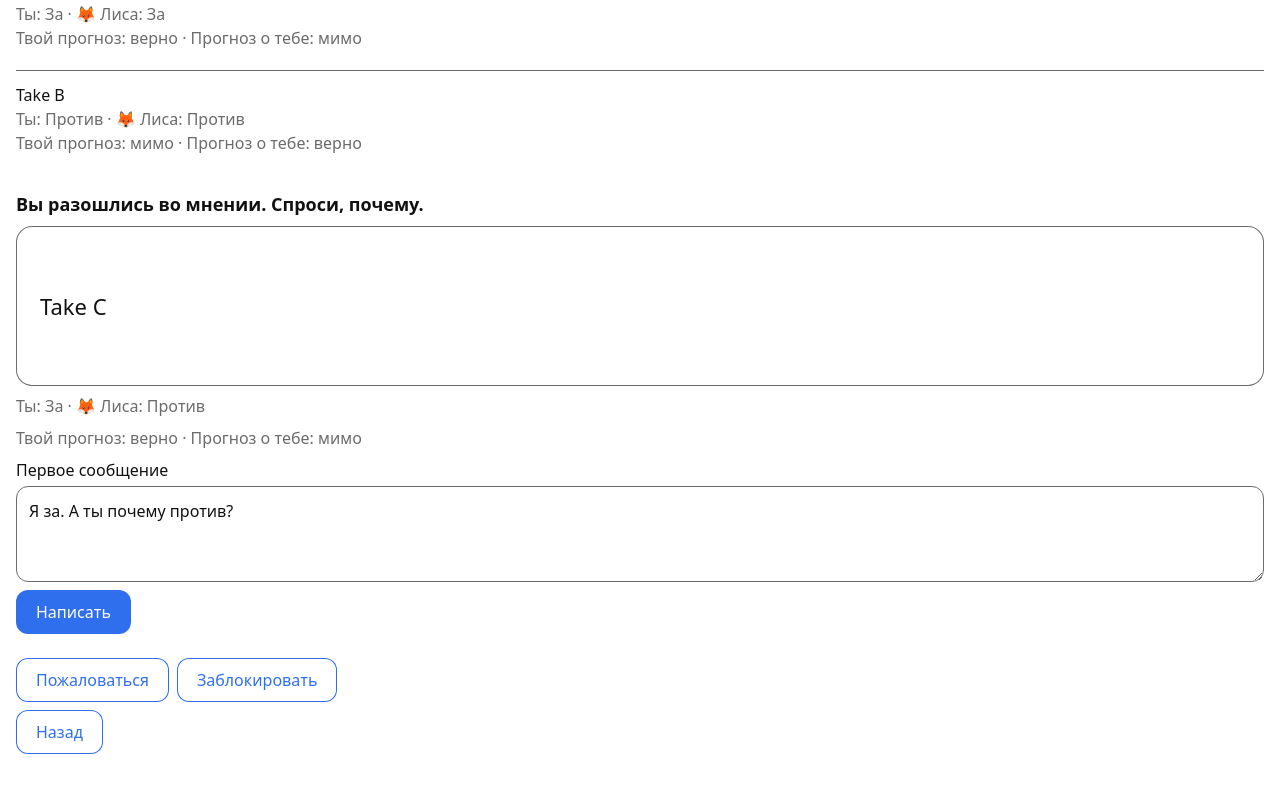
Test: <Match> results › looks at the match again when the chat turns out to be over
This screenshot has width=1280, height=786.
(page scrolled)
Check: the text box labelled "Первое сообщение" is shown, box left=16, top=486, right=1264, bottom=582
Click the button "Написать": (73, 612) left=16, top=590, right=131, bottom=634
(page scrolled)
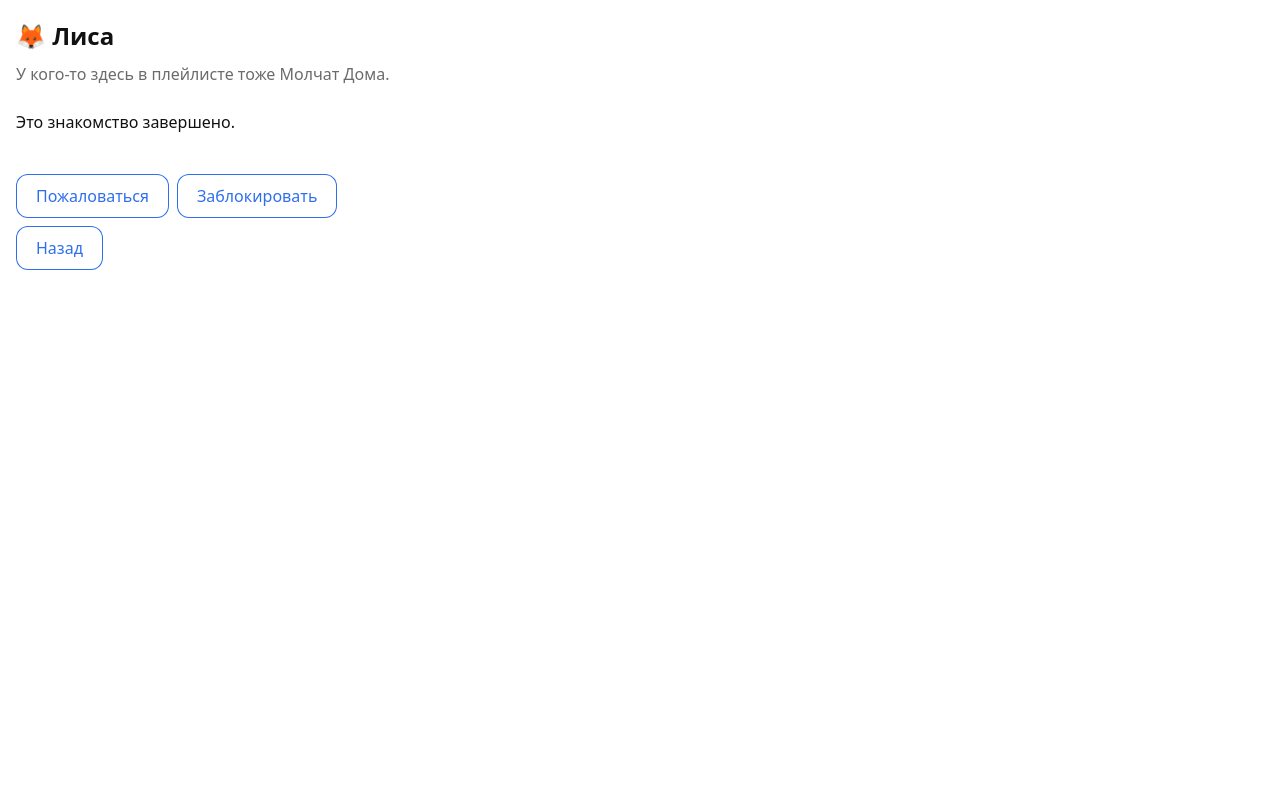
Check: the text "Это знакомство завершено." is shown, box left=16, top=111, right=235, bottom=133
